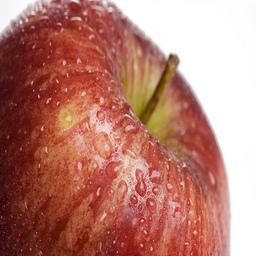apple: (0, 2, 231, 253)
